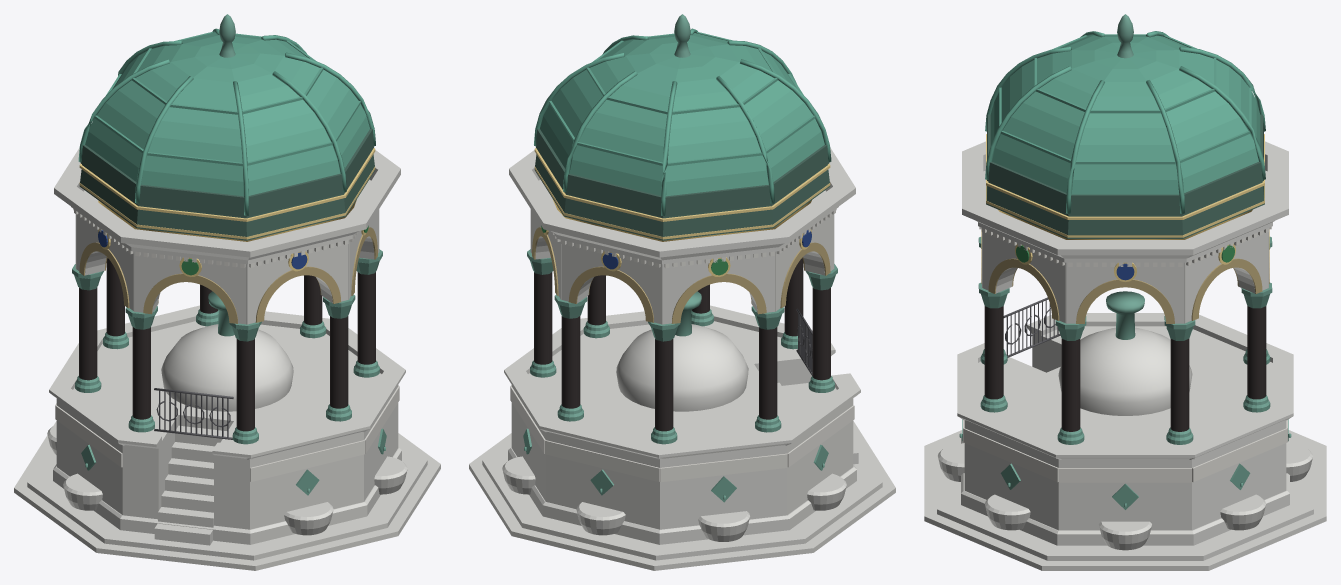
Rendered from german-fountain.glb.
The picture shows the model from 3 angles, left to right: view 1: azimuth 30°, elevation 25°; view 2: azimuth 150°, elevation 25°; view 3: azimuth 270°, elevation 25°; orthographic projection.
Visible parts, largest first — view 1: german-fountain; view 2: german-fountain; view 3: german-fountain.
Boxes of the visible parts, x1,y1,x2,y2 form: german-fountain: [14, 14, 440, 570]; german-fountain: [469, 14, 895, 570]; german-fountain: [924, 14, 1326, 570].
Bounding box in the file's own units: 9 × 11.65 × 9.
